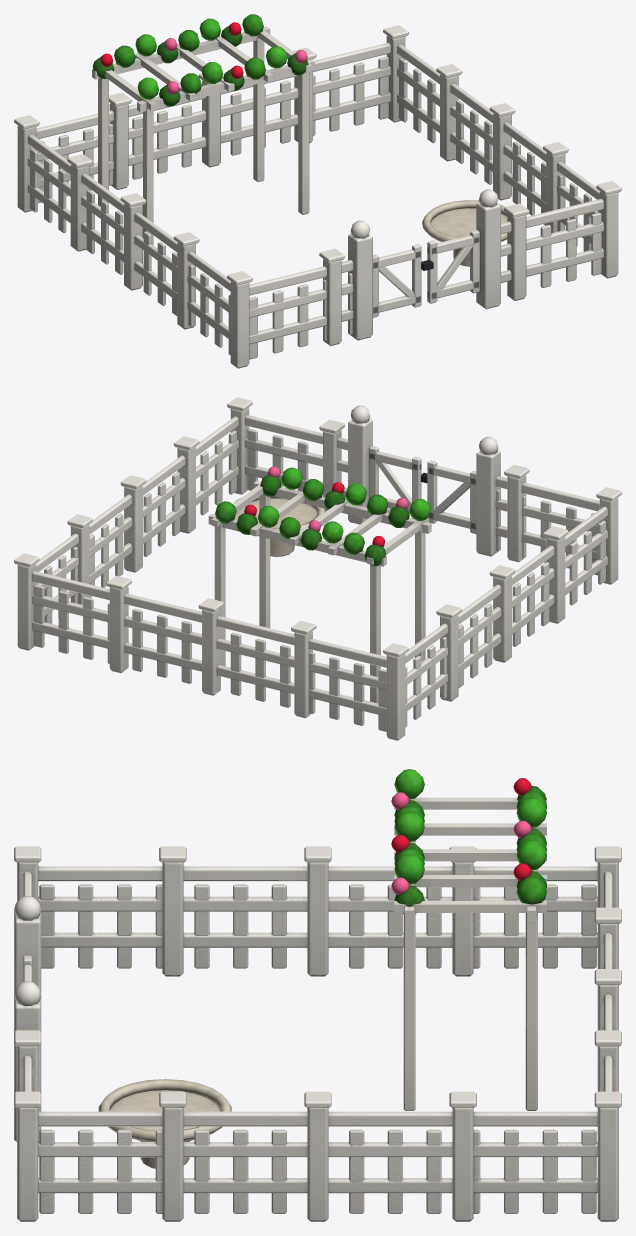
File: peacock_garden.glb
3 renders of one model, top to bottom at view 1: azimuth 30°, elevation 25°; view 2: azimuth 150°, elevation 25°; view 3: azimuth 270°, elevation 25°, orthographic. The views are drawn at different scales.
Parts seen in each view (by area): view 1: peacock_garden; view 2: peacock_garden; view 3: peacock_garden.
Part boxes in pixels (x1,y1,x2,y2): peacock_garden: (14, 14, 621, 368); peacock_garden: (14, 397, 621, 740); peacock_garden: (14, 769, 621, 1221).
Size of the model in its own units: 1.99 by 0.85 by 1.99.
1 material, 1 textured.
